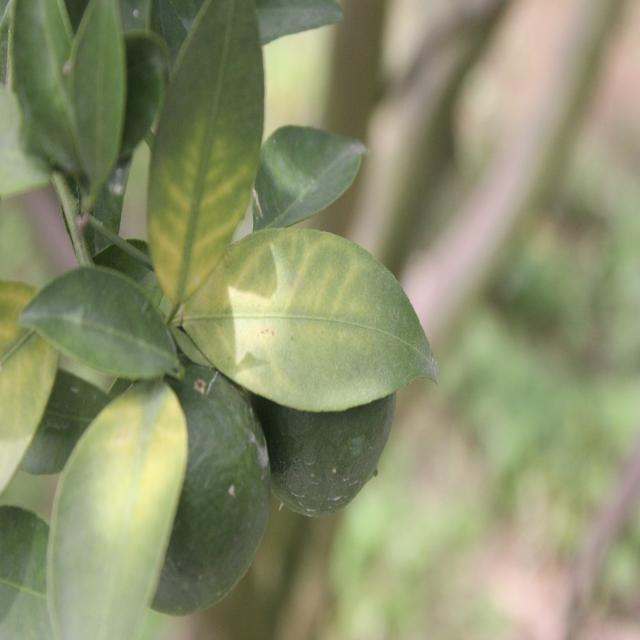greening: (197, 236, 422, 392), (52, 391, 180, 639), (153, 3, 244, 286)
